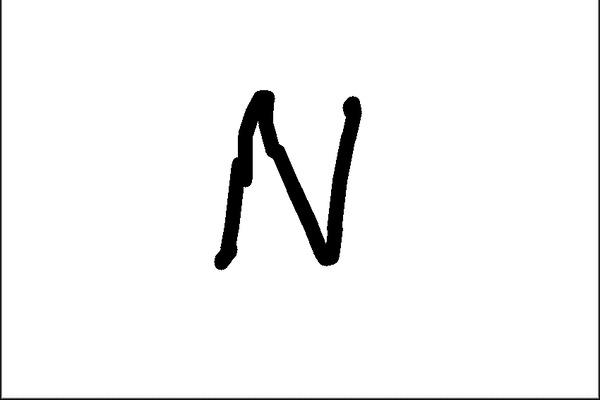N: (204, 83, 367, 278)
